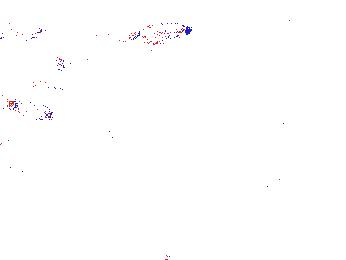X-ray fish: (245, 161, 289, 187), (273, 119, 291, 140)
red belly glassfish: (54, 54, 65, 70)
redtail glassfish: (124, 21, 195, 43), (10, 91, 54, 120), (29, 79, 65, 98)
